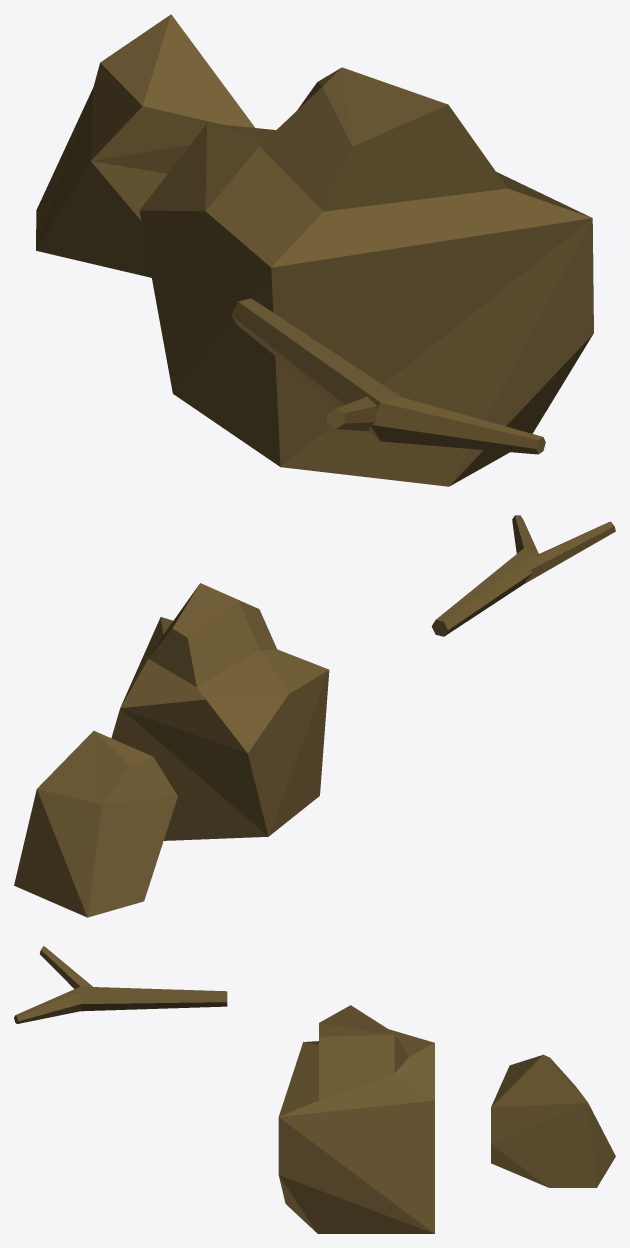
File: GrassProps.fbx
3 renders of one model, top to bottom at view 1: azimuth 30°, elevation 25°; view 2: azimuth 150°, elevation 25°; view 3: azimuth 270°, elevation 25°, orthographic. The views are drawn at different scales.
Parts seen in each view (by area): view 1: GrassStone2, GrassStone1, Branch; view 2: GrassStone2, GrassStone1, Branch; view 3: GrassStone2, GrassStone1, Branch.
Boxes of the visible parts, x1,y1,x2,y2 form: GrassStone2: [139, 67, 593, 486]; GrassStone1: [36, 14, 254, 277]; Branch: [231, 298, 545, 454]; GrassStone2: [111, 583, 329, 840]; GrassStone1: [14, 731, 177, 917]; Branch: [431, 515, 615, 636]; GrassStone2: [278, 1005, 434, 1233]; GrassStone1: [491, 1054, 615, 1187]; Branch: [14, 946, 227, 1023].
Size of the model in its own units: 17.27 by 12.29 by 35.88.
